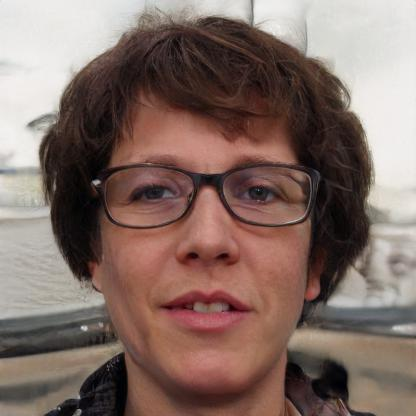glasses: (96, 156, 319, 235)
